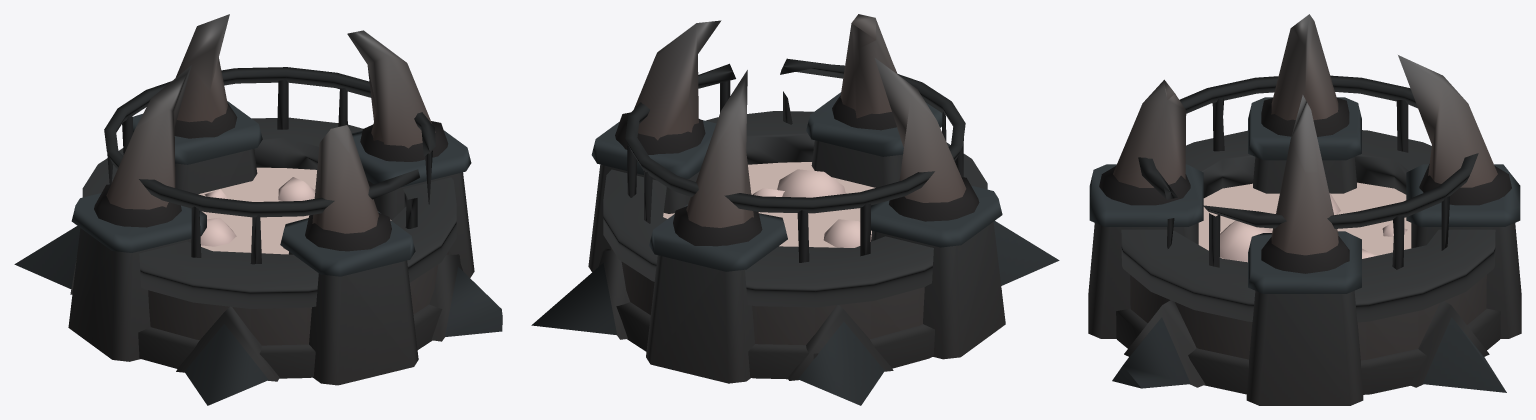
File: hl_well.glb
3 renders of one model, left to right at view 1: azimuth 30°, elevation 25°; view 2: azimuth 150°, elevation 25°; view 3: azimuth 270°, elevation 25°, orthographic. The views are drawn at different scales.
Visible parts, largest first — view 1: hl_well; view 2: hl_well; view 3: hl_well.
Part boxes in pixels (x1,y1,x2,y2): hl_well: (14,14,502,405); hl_well: (531,14,1059,405); hl_well: (1088,14,1521,405).
Size of the model in its own units: 4 by 2.66 by 4.
